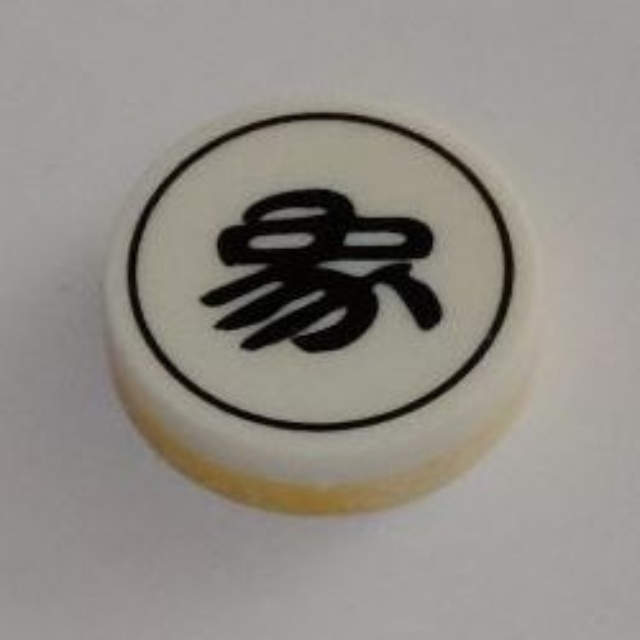black_bo: (95, 81, 550, 521)
